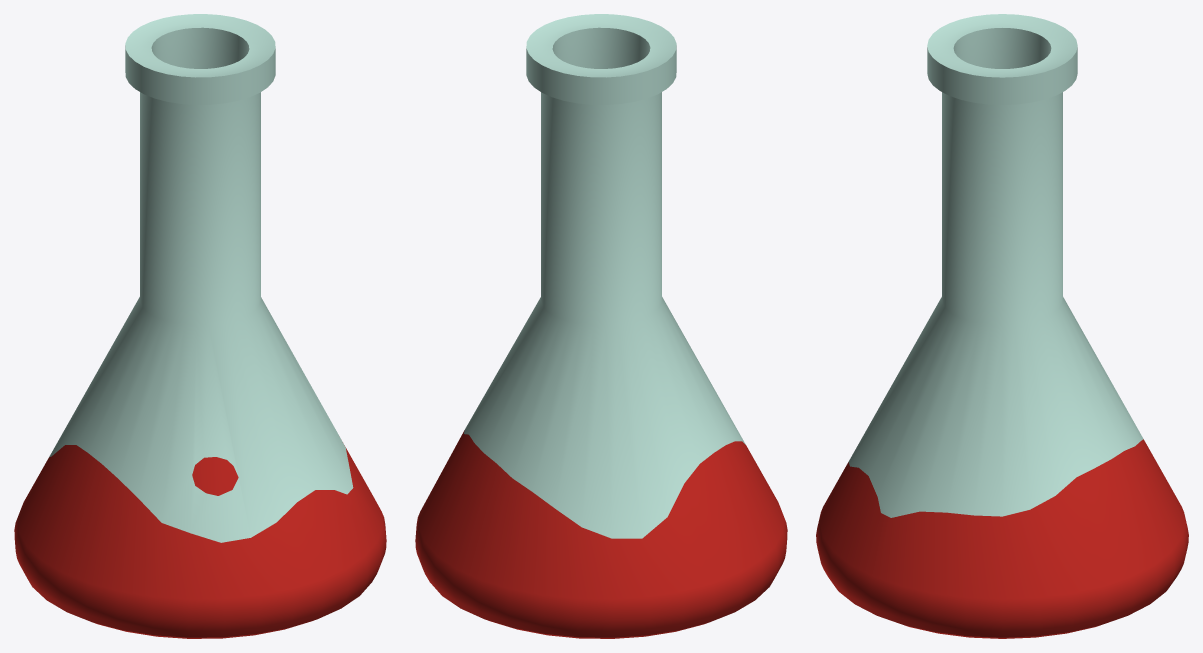
Rendered from Poción.fbx.
The picture shows the model from 3 angles, left to right: view 1: azimuth 30°, elevation 25°; view 2: azimuth 150°, elevation 25°; view 3: azimuth 270°, elevation 25°; orthographic projection.
Parts seen in each view (by area): view 1: Cylinder; view 2: Cylinder; view 3: Cylinder.
Part boxes in pixels (x1,y1,x2,y2): Cylinder: (14, 14, 386, 638); Cylinder: (415, 14, 787, 638); Cylinder: (816, 14, 1188, 638).
Bounding box in the file's own units: 37.55 × 58.06 × 37.55.
